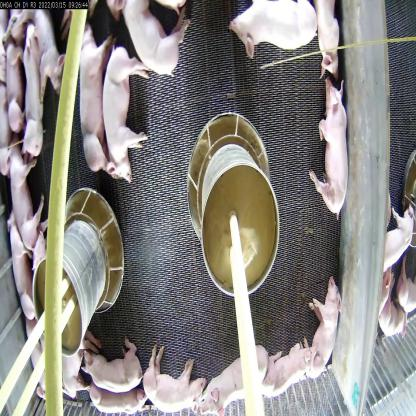Pig: (99, 42, 154, 191), (118, 0, 194, 81), (228, 0, 319, 64), (76, 26, 115, 173), (310, 75, 348, 220), (204, 339, 267, 415), (4, 212, 43, 332), (140, 342, 205, 412), (56, 326, 106, 404), (81, 331, 143, 393), (308, 271, 342, 384), (7, 152, 44, 254), (20, 27, 49, 156), (34, 10, 68, 101), (262, 338, 315, 394), (23, 308, 51, 407), (6, 35, 31, 139), (384, 200, 416, 276), (311, 0, 341, 81), (377, 293, 411, 351), (90, 385, 148, 415)
